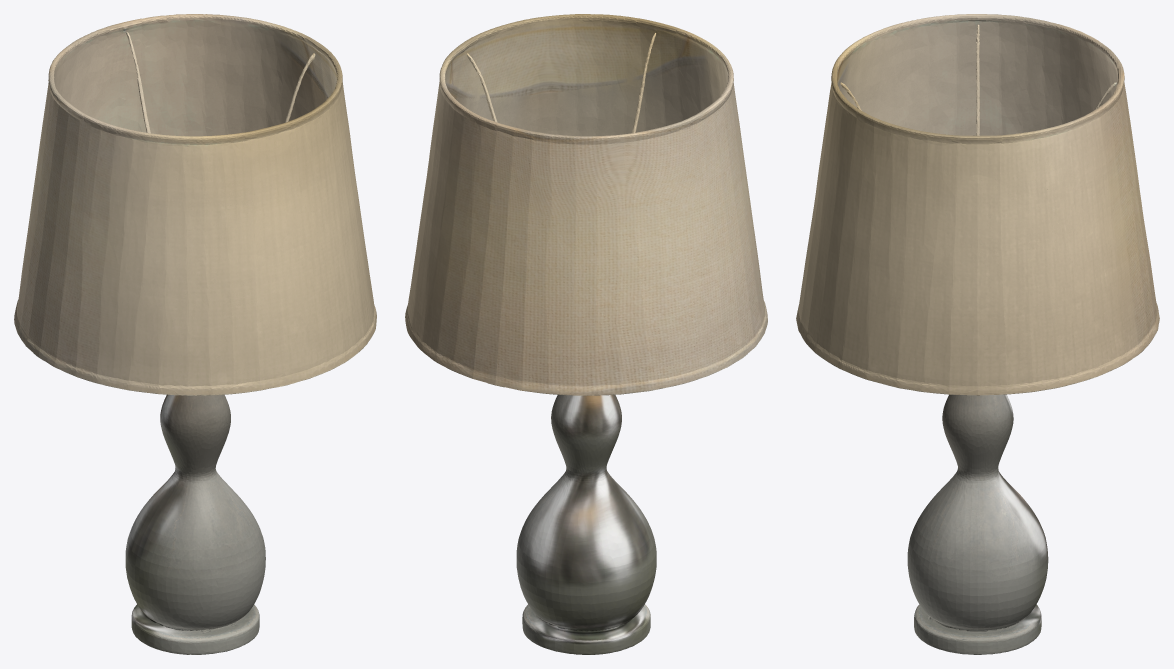
Rendered from table_lamp.glb.
3 renders of one model, left to right at view 1: azimuth 30°, elevation 25°; view 2: azimuth 150°, elevation 25°; view 3: azimuth 270°, elevation 25°, orthographic.
Parts seen in each view (by area): view 1: geometry_0; view 2: geometry_0; view 3: geometry_0.
Boxes of the visible parts, left/top/right/bottom form: geometry_0: left=14, top=14, right=376, bottom=654; geometry_0: left=405, top=14, right=767, bottom=654; geometry_0: left=796, top=14, right=1159, bottom=654.
Size of the model in its own units: 0.5956 by 1 by 0.5964.
Materials: 1 (1 with a texture image).
